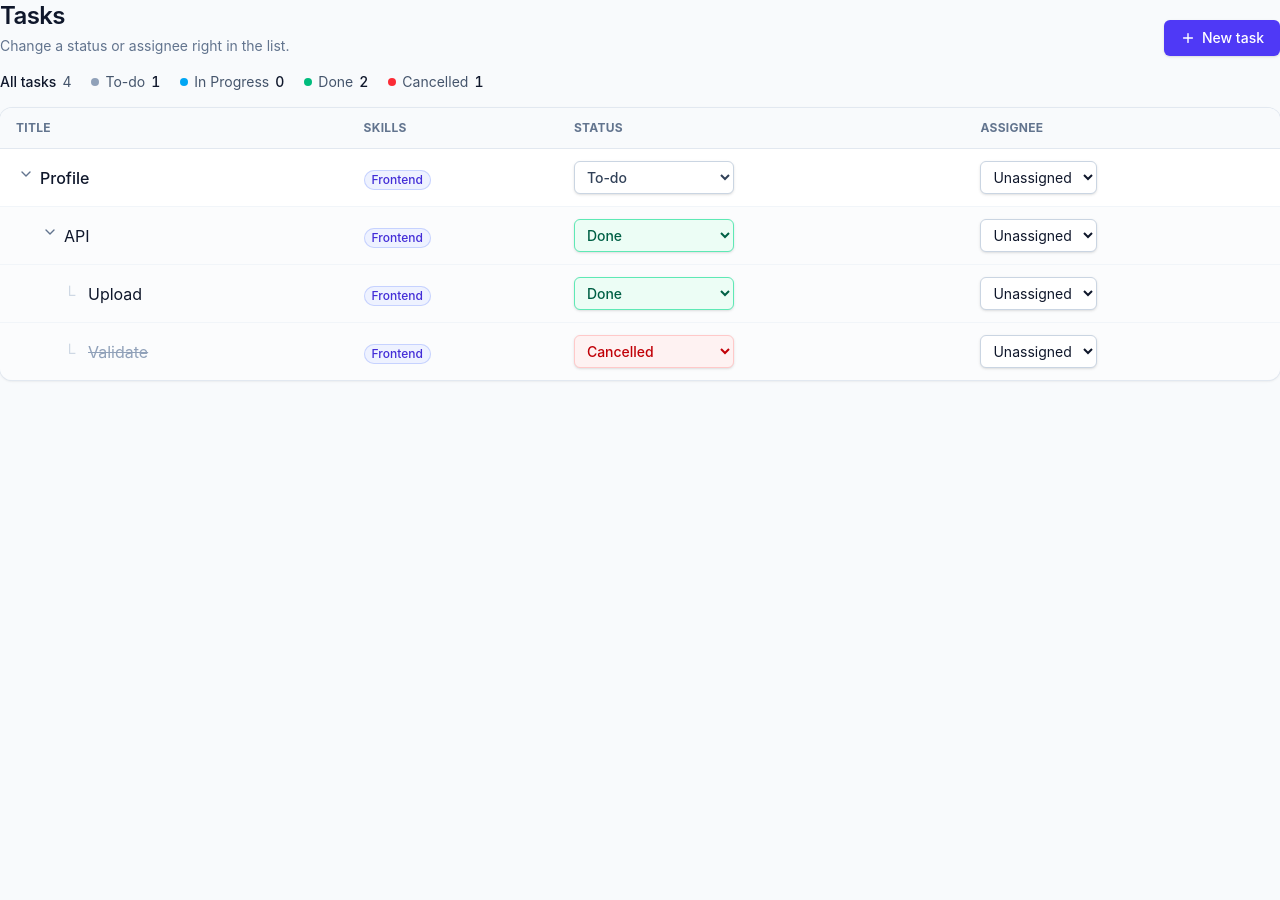
Test: TaskListPage tree › asks before reopening a Cancelled subtask of a Done parent
The image size is (1280, 900).
Select "In Progress" in the 7th dropdown at (654, 352), box [574, 335, 734, 368]
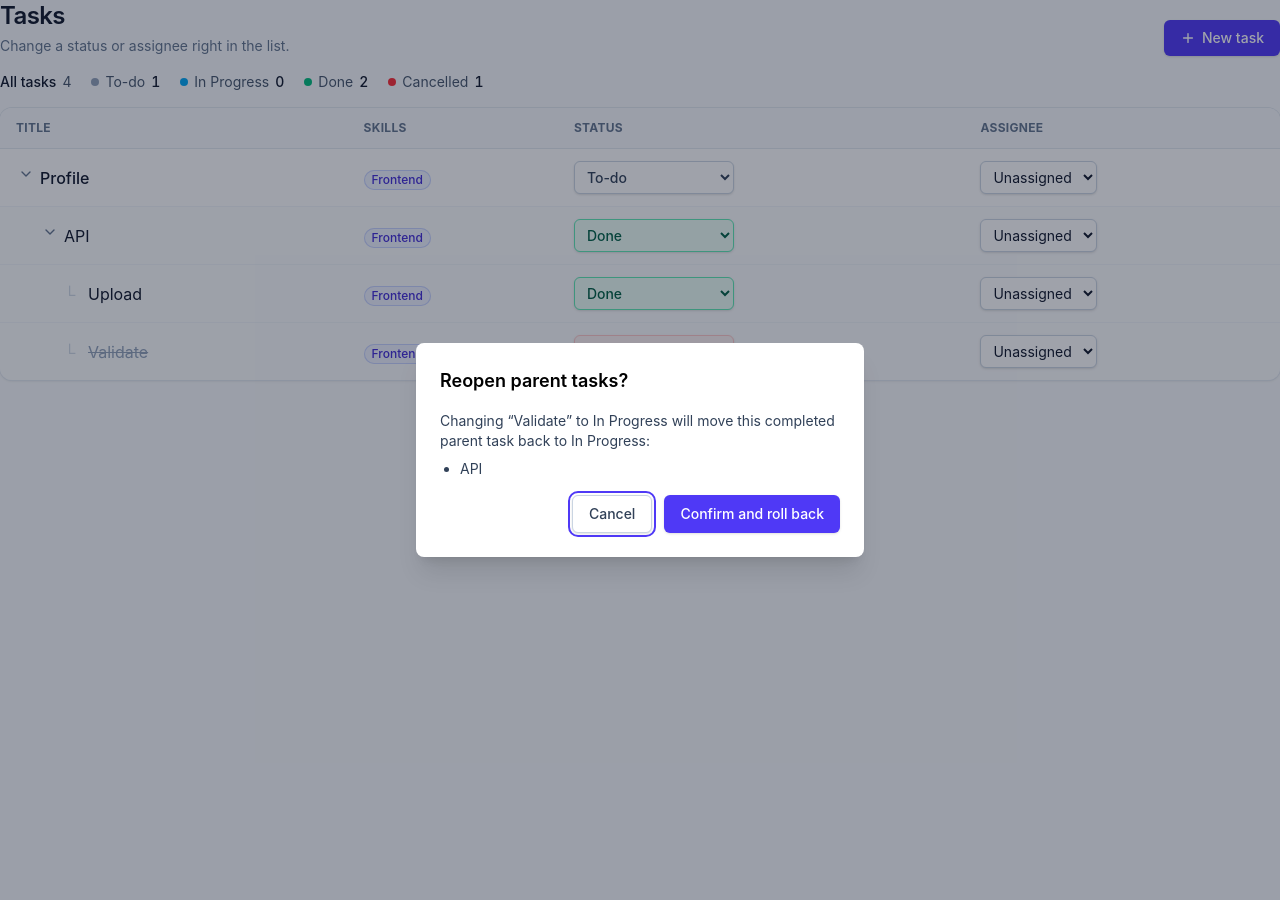
Check: the list items read "API", in this order, box [460, 460, 482, 477]
